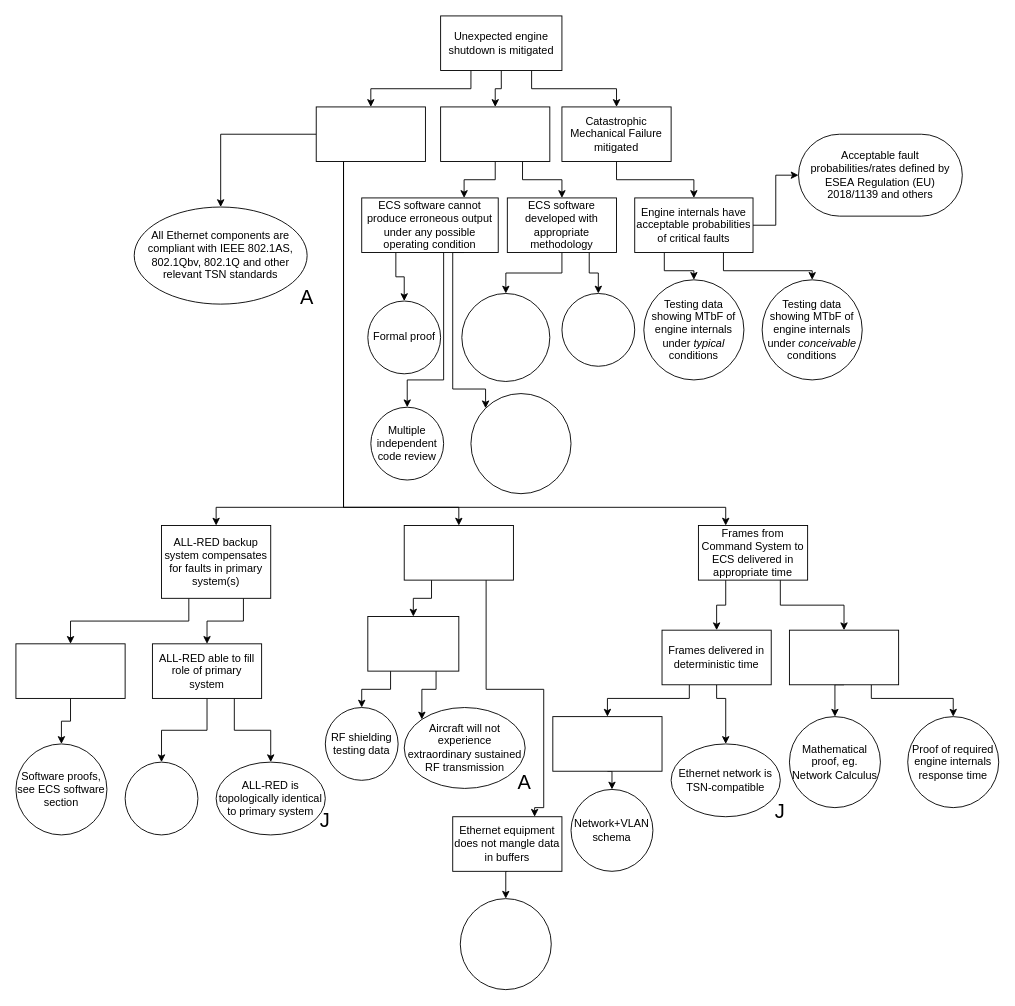
Some shapes in this 1015 by 1006 pixel diagram are drawn without their labels. Each missing label, with the centre of its shape:
"Communications faults mitigated" goes at pixel 370 134.
"Configured latency bounds allow corrective commands to be enacted in time" goes at pixel 844 657.
"Development log and design documents" goes at pixel 505 337.
"ECS software failure mitigated" goes at pixel 495 134.
"End-to-end packet loss/corruption rate testing on final hardware" goes at pixel 505 944.
"Frames are not malformed or corrupted in transit" goes at pixel 458 552.
"High-accuracy simulation over real-world state space" goes at pixel 520 443.
"INT-FD detects faults in primary system" goes at pixel 70 670.
"Integration tests with simulated failures" goes at pixel 161 798.
"RF interference mitigated" goes at pixel 413 643.
"Software Bill of Materials" goes at pixel 598 329.
"Temporal resources statically allocated for CS-ECS VLAN (A)" goes at pixel 607 743.
